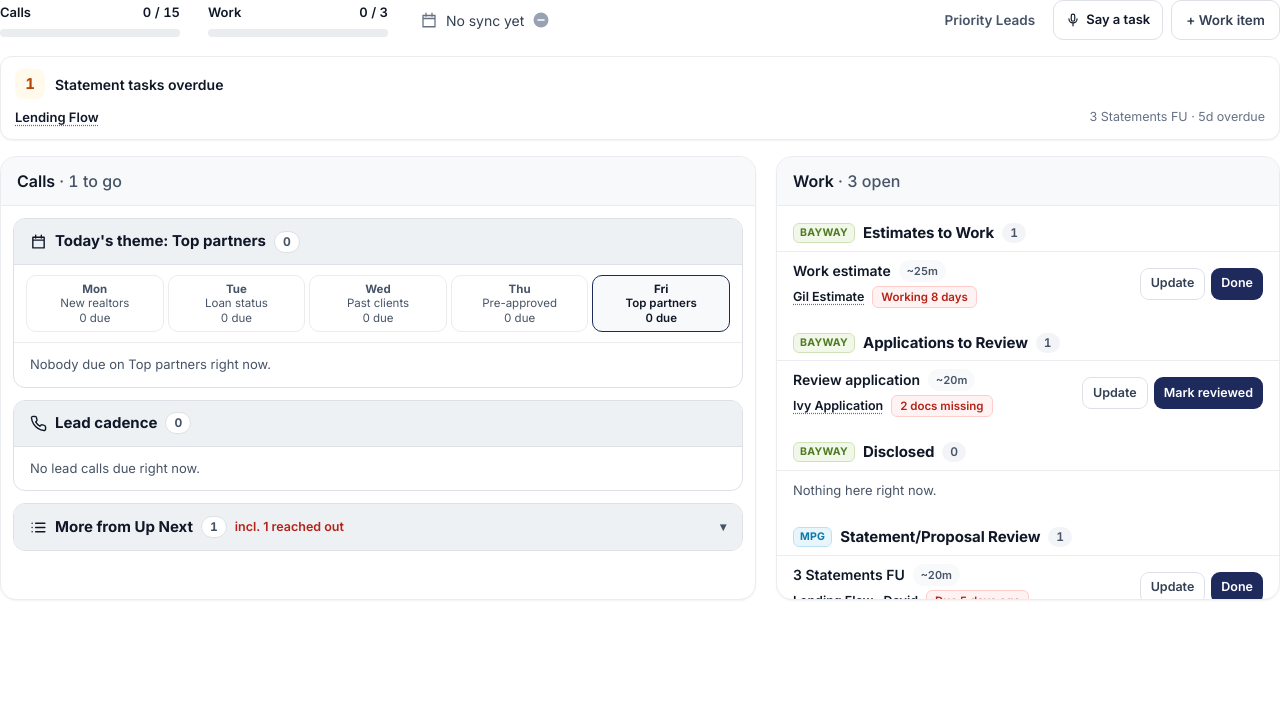
Scenario: Workbench › marks an estimate sent, which moves the FUB stage
Click the button "Done" in the row of "Working 8 days". click: (1237, 284)
box: left=1211, top=268, right=1263, bottom=300
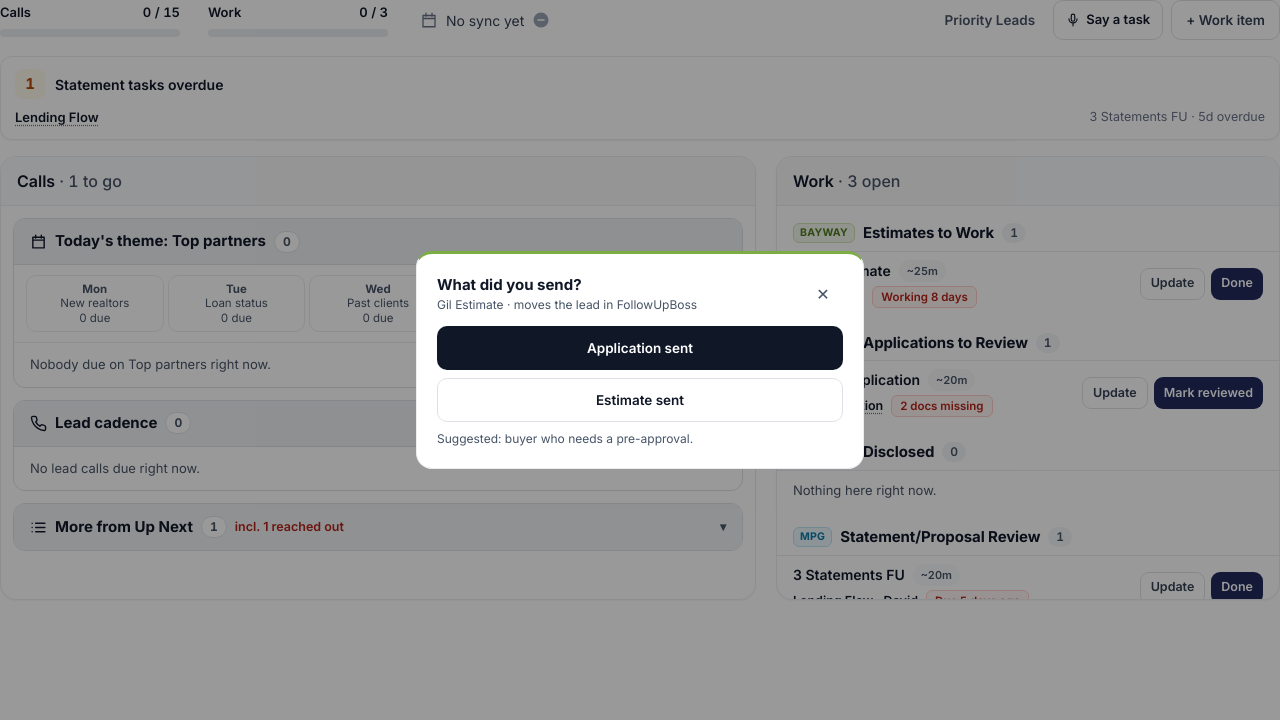
Click the button "Estimate sent". click: (640, 400)
box: left=437, top=378, right=843, bottom=422
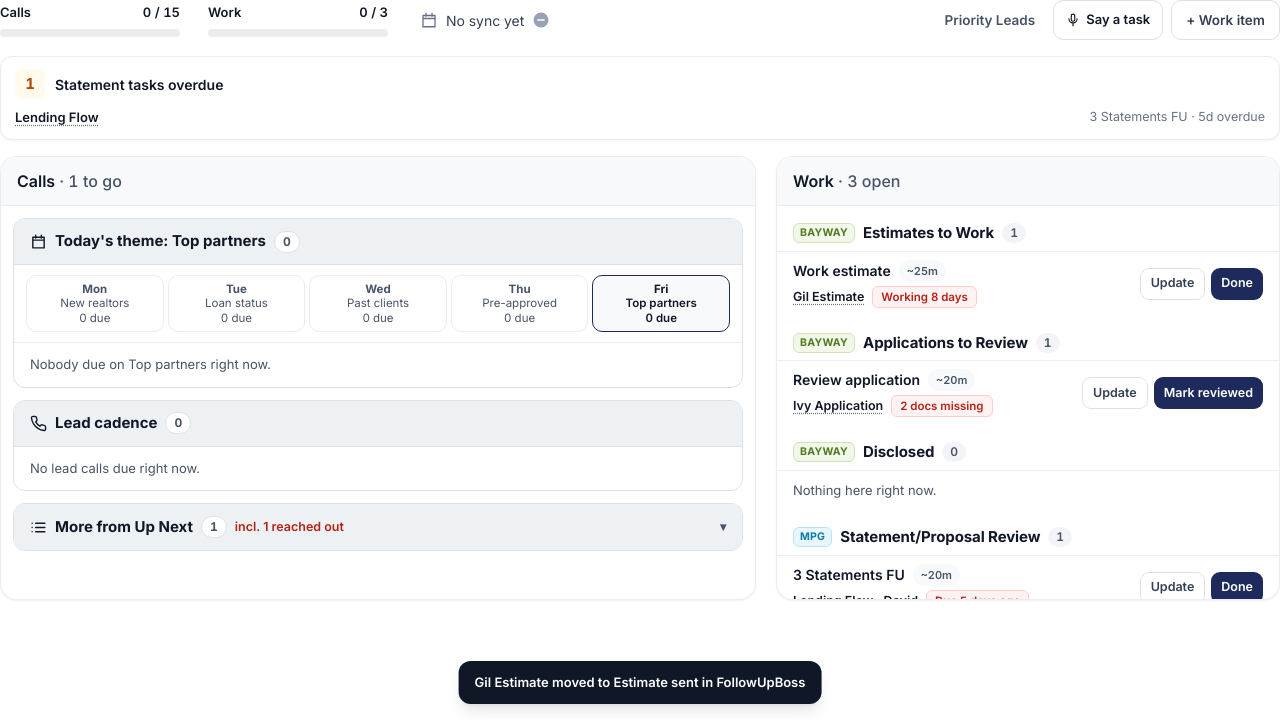
Expected: the text "Gil Estimate moved to Estimate sent in FollowUpBoss" is shown, left=475, top=672, right=805, bottom=692
